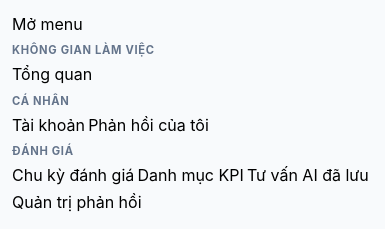
Test: mobile navigation opens with a button and closes on link selection
This screenshot has width=385, height=229.
Click the button "Mở menu".
click(47, 24)  # box [12, 12, 83, 36]
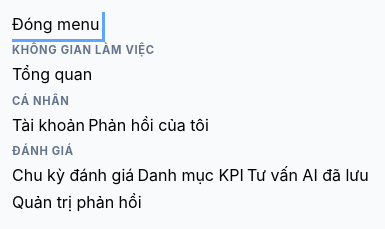
Expected: the button "Đóng menu" is expanded, [12, 12, 99, 36]
Click the link "Phản hồi của tôi".
click(148, 125)  # box [88, 113, 209, 137]
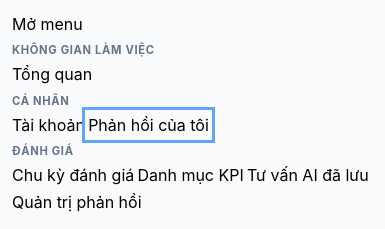
Expected: the button "Mở menu" is collapsed, [12, 12, 83, 36]
